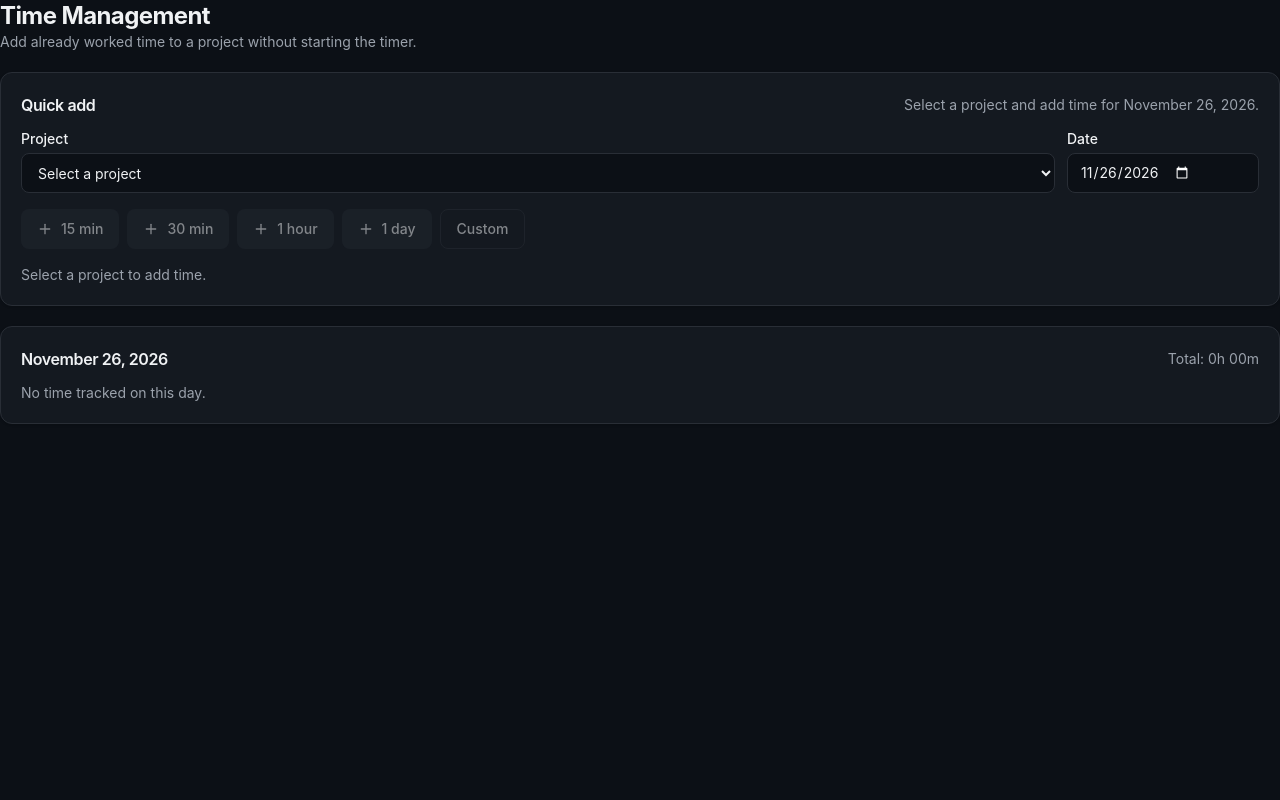
Test: TimeManagementPage › opens custom duration dialog
Select "Alpha" in the dropdown labelled "Project" at (538, 173), box 21,153 -> 1055,193
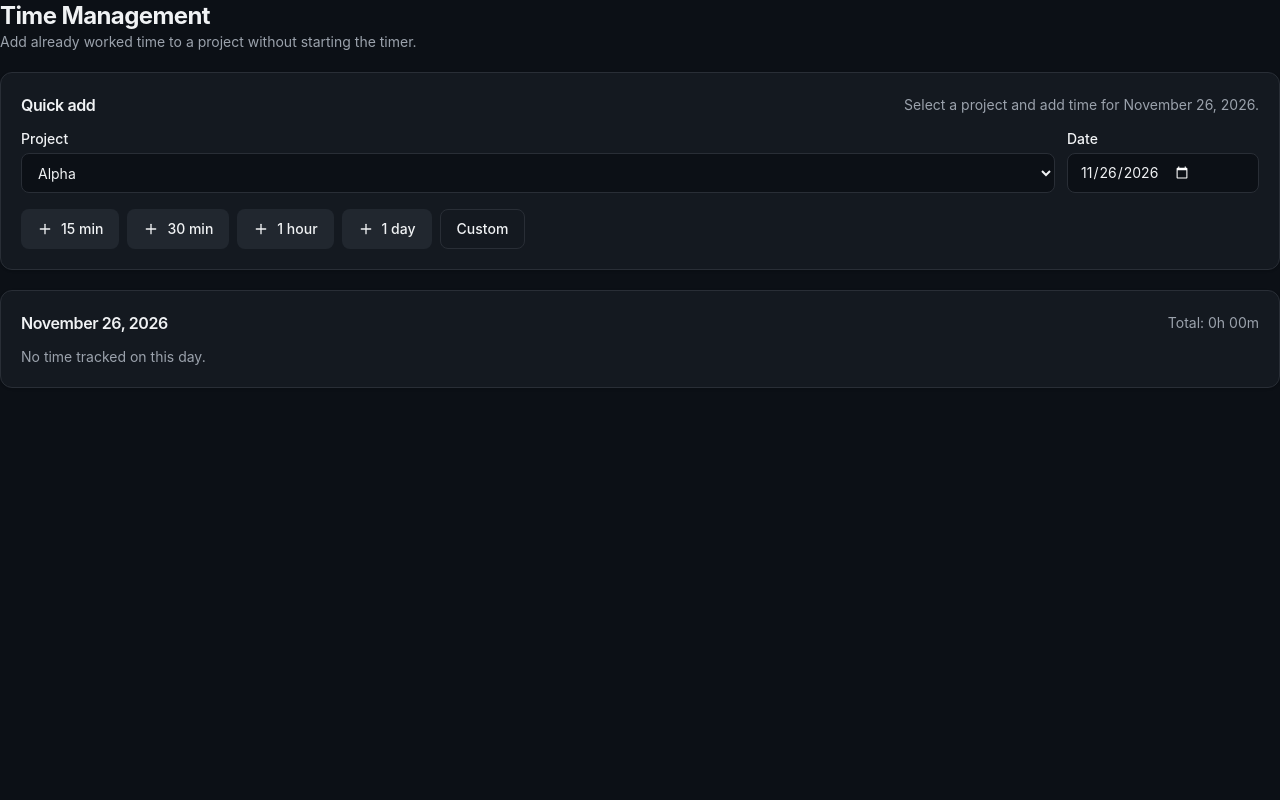
Click the button "Custom" at (482, 229), box 440,209 -> 525,249
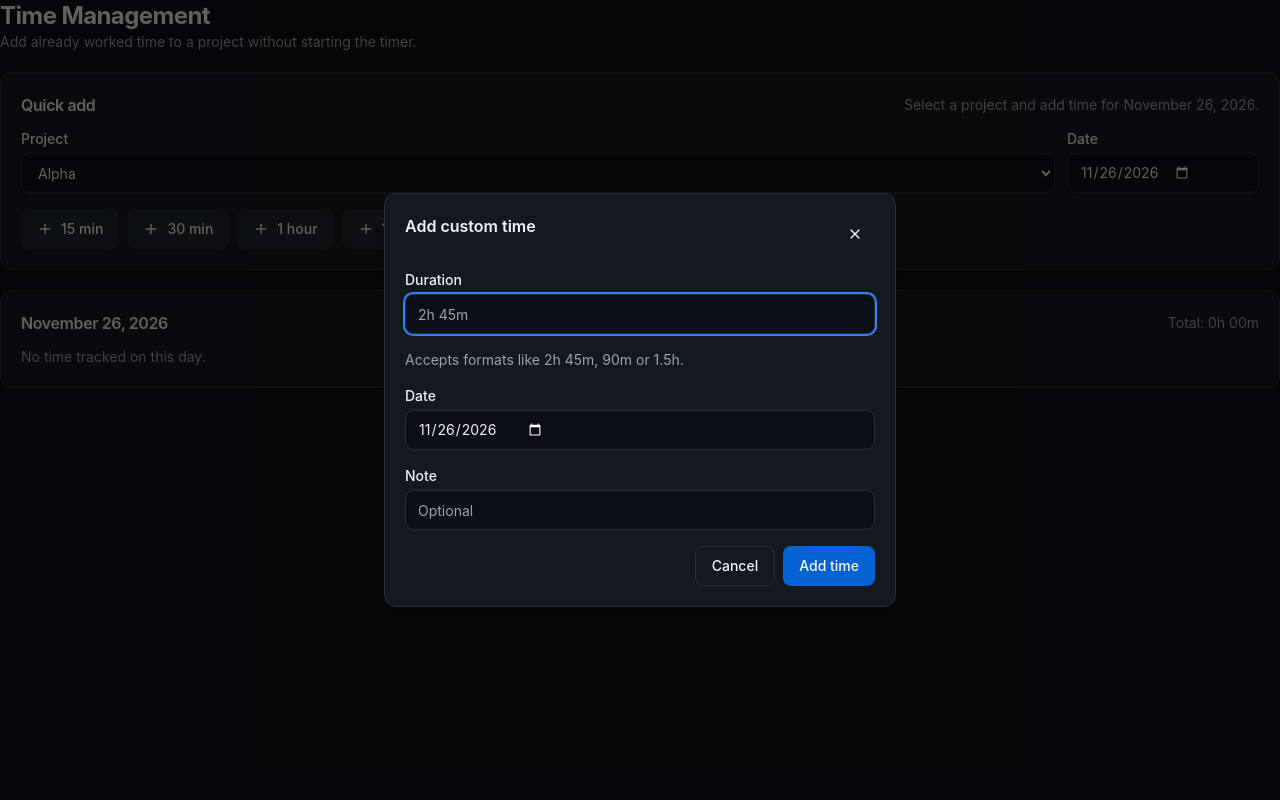
Check: the heading "Add custom time" is shown, box 405,214 -> 536,238
